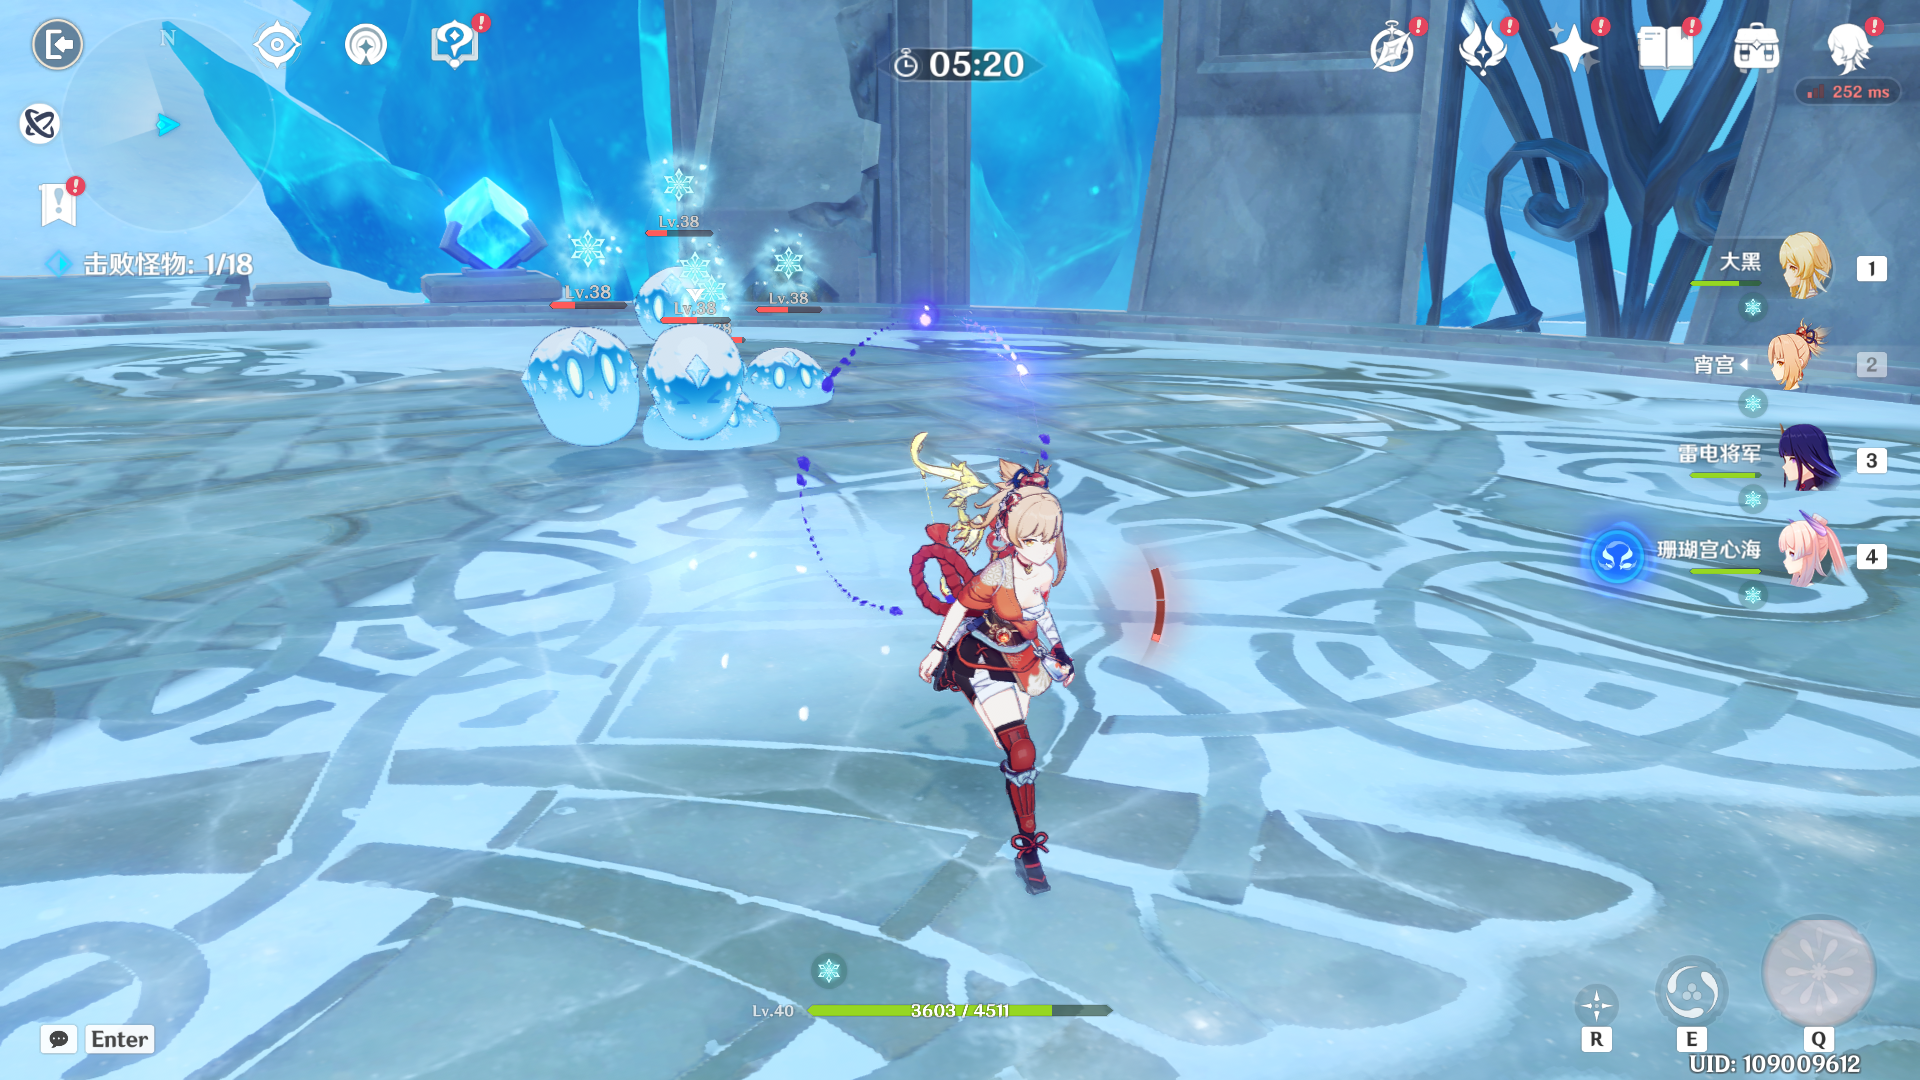character: (858, 407, 1197, 909)
slime: (498, 320, 651, 471), (632, 323, 757, 439), (733, 332, 851, 425), (632, 264, 733, 344)
